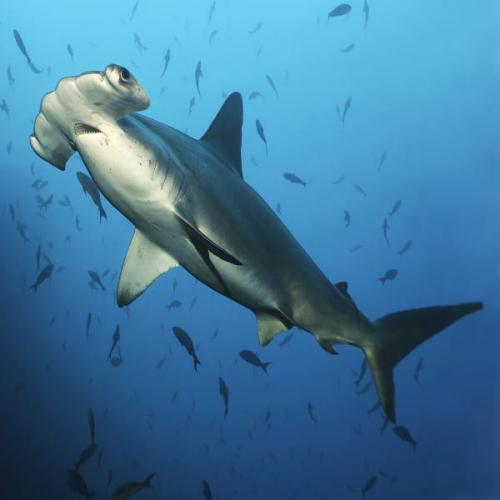shark-endangered: (28, 61, 485, 428)
